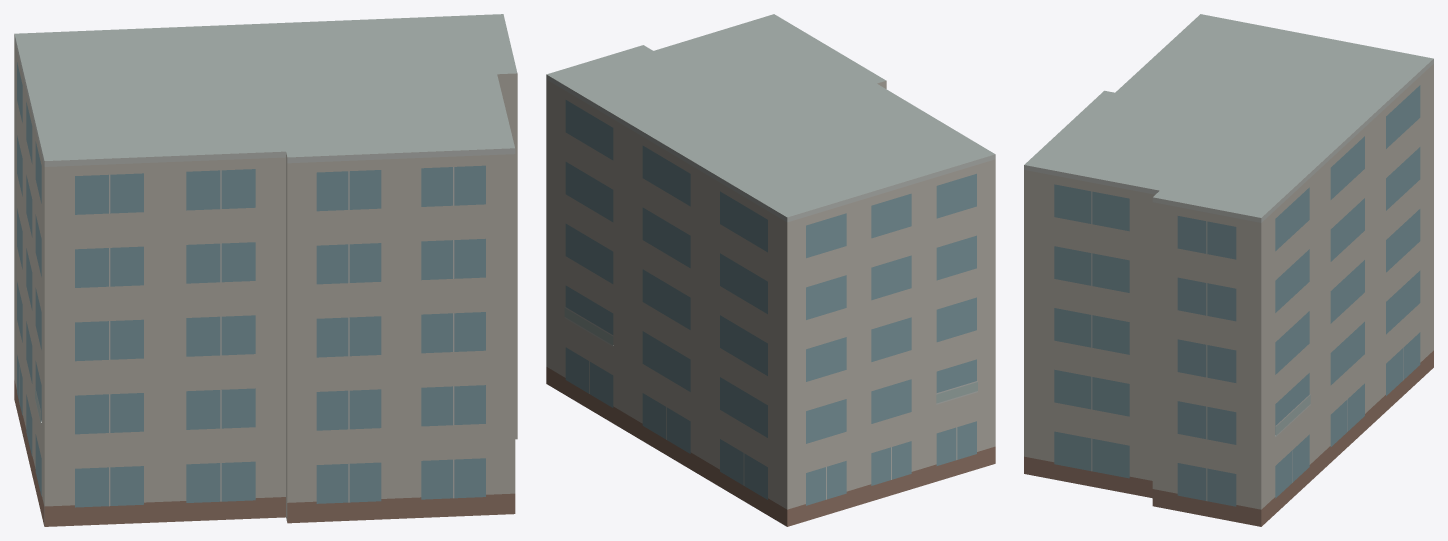
Rendered from survey-upis-32587090.glb.
The picture shows the model from 3 angles, left to right: view 1: azimuth 30°, elevation 25°; view 2: azimuth 150°, elevation 25°; view 3: azimuth 270°, elevation 25°; orthographic projection. The views are drawn at different scales.
Parts seen in each view (by area): view 1: survey-upis-32587090.tmp; view 2: survey-upis-32587090.tmp; view 3: survey-upis-32587090.tmp.
Part boxes in pixels (x1,y1,x2,y2): survey-upis-32587090.tmp: (14, 14, 517, 526); survey-upis-32587090.tmp: (546, 14, 995, 526); survey-upis-32587090.tmp: (1024, 14, 1433, 526).
Size of the model in its own units: 21.61 by 15.25 by 18.34.
